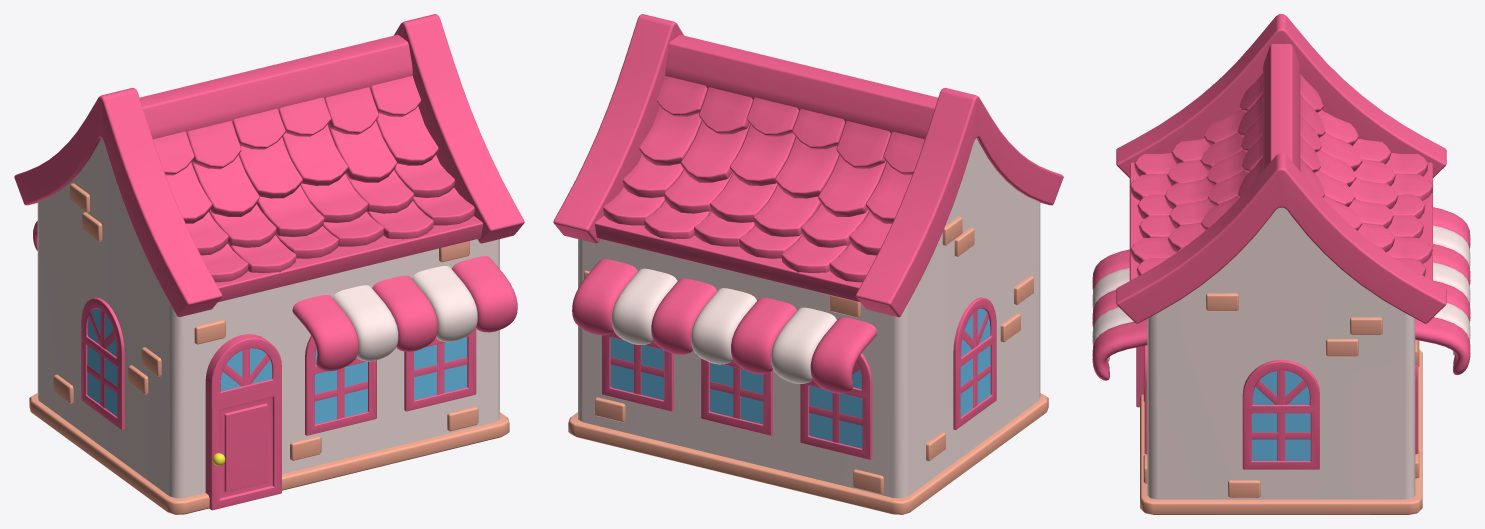
The model's file is Store_17_Beauty_Shop_1.glb.
3 views of the same model, side by side, from view 1: azimuth 30°, elevation 25°; view 2: azimuth 150°, elevation 25°; view 3: azimuth 270°, elevation 25° (orthographic). The views are drawn at different scales.
Parts seen in each view (by area): view 1: Store_17_Beauty_Shop_1; view 2: Store_17_Beauty_Shop_1; view 3: Store_17_Beauty_Shop_1.
Boxes of the visible parts, x1,y1,x2,y2 form: Store_17_Beauty_Shop_1: (14, 14, 524, 514); Store_17_Beauty_Shop_1: (553, 14, 1063, 514); Store_17_Beauty_Shop_1: (1092, 14, 1470, 514).
Bounding box in the file's own units: 6.81 × 6.97 × 6.9.
1 material, 1 textured.
